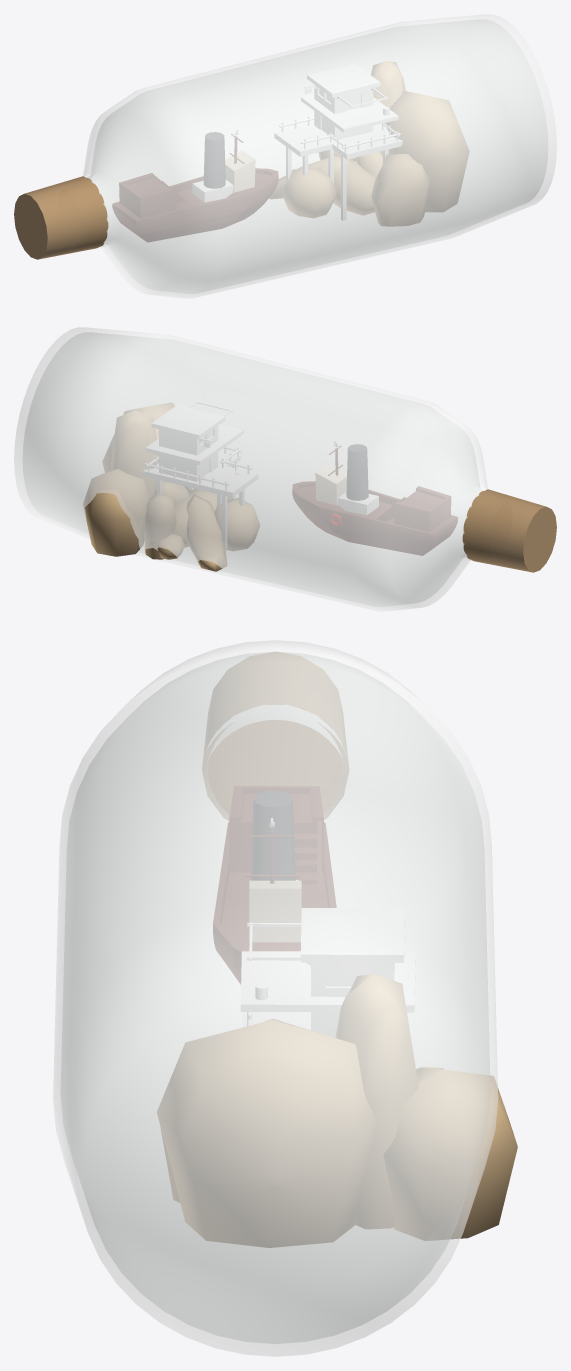
The model's file is Scene.baked.glb.
3 renders of one model, top to bottom at view 1: azimuth 30°, elevation 25°; view 2: azimuth 150°, elevation 25°; view 3: azimuth 270°, elevation 25°, orthographic. The views are drawn at different scales.
Parts seen in each view (by area): view 1: Bottle, Ship_Body, pCube31, pCube1, pCube32, pCube2, pCube41, pCube42, Funnel, pCube30, Cabin, Funnel_step (+4 smaller); view 2: Bottle, Ship_Body, pCube29, pCube1, pCube30, pCube48, pCube2, pCube41, pCube33, Funnel, Cabin, pCube42 (+5 smaller); view 3: Bottle, pCube31, pCube29, pCube1, pCube30, Ship_Body, Funnel, Cabin.
Boxes of the visible parts, left/top/right/bottom form: Bottle: left=14, top=14, right=556, bottom=298; Ship_Body: left=112, top=134, right=278, bottom=241; pCube31: left=382, top=91, right=469, bottom=211; pCube1: left=301, top=64, right=398, bottom=139; pCube32: left=371, top=154, right=429, bottom=226; pCube2: left=274, top=123, right=402, bottom=159; pCube41: left=282, top=168, right=336, bottom=217; pCube42: left=333, top=160, right=375, bottom=215; Funnel: left=204, top=132, right=225, bottom=188; pCube30: left=371, top=61, right=405, bottom=152; Cabin: left=225, top=150, right=255, bottom=192; Funnel_step: left=192, top=180, right=233, bottom=202; Bottle: left=14, top=327, right=556, bottom=611; Ship_Body: left=292, top=446, right=457, bottom=555; pCube29: left=83, top=469, right=149, bottom=556; pCube1: left=146, top=405, right=243, bottom=481; pCube30: left=111, top=410, right=158, bottom=498; pCube48: left=186, top=494, right=226, bottom=571; pCube2: left=143, top=451, right=257, bottom=497; pCube41: left=215, top=498, right=259, bottom=550; pCube33: left=144, top=493, right=176, bottom=559; Funnel: left=346, top=444, right=368, bottom=500; Cabin: left=315, top=463, right=346, bottom=505; pCube42: left=174, top=490, right=216, bottom=547; Bottle: left=53, top=640, right=498, bottom=1356; pCube31: left=157, top=1019, right=376, bottom=1247; pCube29: left=383, top=1067, right=517, bottom=1240; pCube1: left=241, top=908, right=415, bottom=1037; pCube30: left=335, top=974, right=418, bottom=1228; Ship_Body: left=213, top=786, right=336, bottom=983; Funnel: left=251, top=791, right=295, bottom=880; Cabin: left=249, top=881, right=301, bottom=941.
Bounding box in the file's own units: 9.01 × 3.59 × 3.75.
